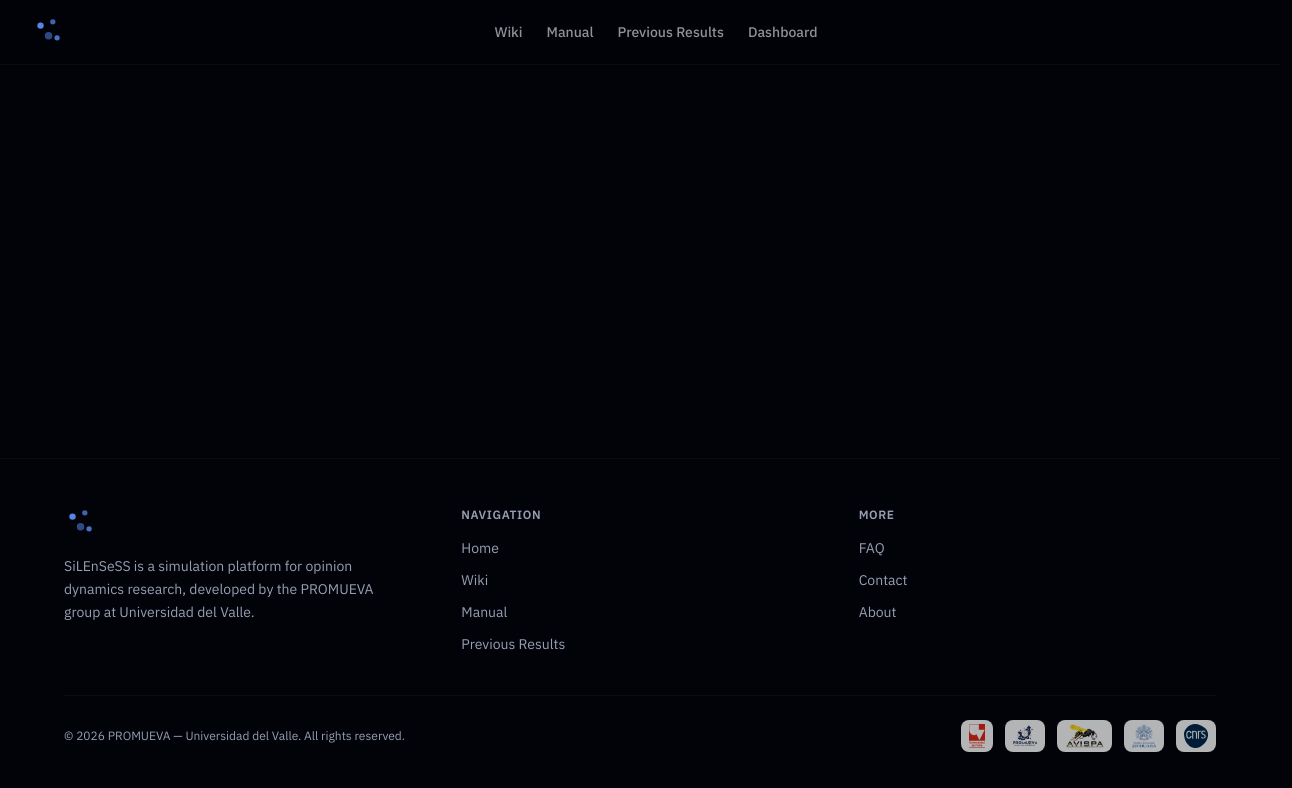
Test: AppRoutes — footer 'More' links › /contact resolves to its page instead of the 404
The width and height of the screenshot is (1292, 788).
Click the link "Contact": (883, 580) [859,571,908,589]
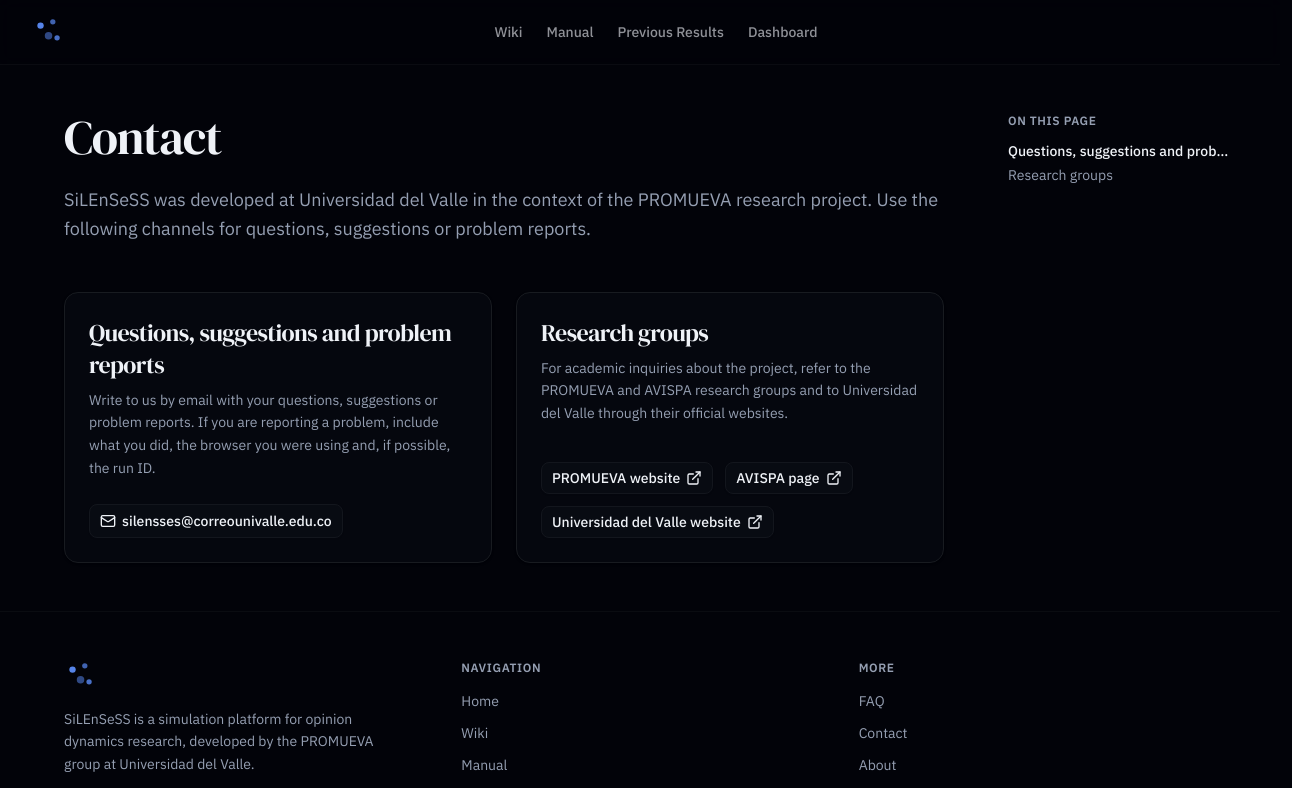
Expected: the heading "Contact" is shown, [64,104,221,170]
